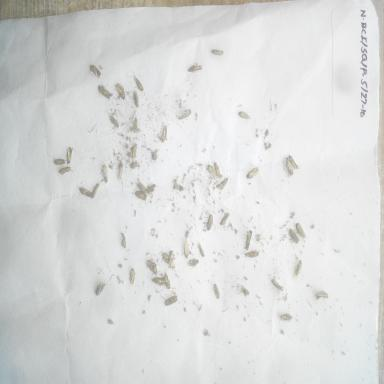pbw: (97, 84, 114, 102), (106, 113, 122, 132), (76, 185, 94, 201), (176, 106, 194, 121), (113, 161, 125, 183), (144, 258, 158, 276), (114, 81, 127, 100), (243, 228, 254, 250), (236, 282, 251, 298), (186, 63, 203, 77), (131, 88, 141, 111), (185, 256, 201, 270), (164, 292, 178, 308), (277, 312, 294, 325), (218, 210, 231, 227), (99, 162, 110, 182), (293, 258, 304, 278), (134, 76, 146, 94), (216, 176, 228, 194), (158, 121, 168, 142), (205, 210, 215, 231), (314, 288, 329, 302), (132, 191, 148, 204), (56, 165, 74, 176), (270, 278, 284, 292), (246, 166, 260, 180), (206, 162, 216, 181), (288, 154, 298, 172), (145, 181, 156, 197), (90, 183, 100, 200), (296, 221, 306, 238), (212, 283, 222, 300), (160, 251, 170, 268), (213, 161, 223, 178), (288, 229, 301, 242), (182, 237, 190, 258), (94, 281, 105, 296), (244, 248, 260, 258), (167, 249, 175, 268), (130, 141, 138, 160), (285, 157, 293, 176), (209, 47, 225, 56), (151, 276, 167, 285), (238, 109, 251, 120), (136, 180, 147, 192), (164, 273, 172, 289), (129, 267, 136, 285), (54, 157, 68, 166), (66, 146, 72, 166), (198, 242, 205, 258), (174, 180, 184, 191)
